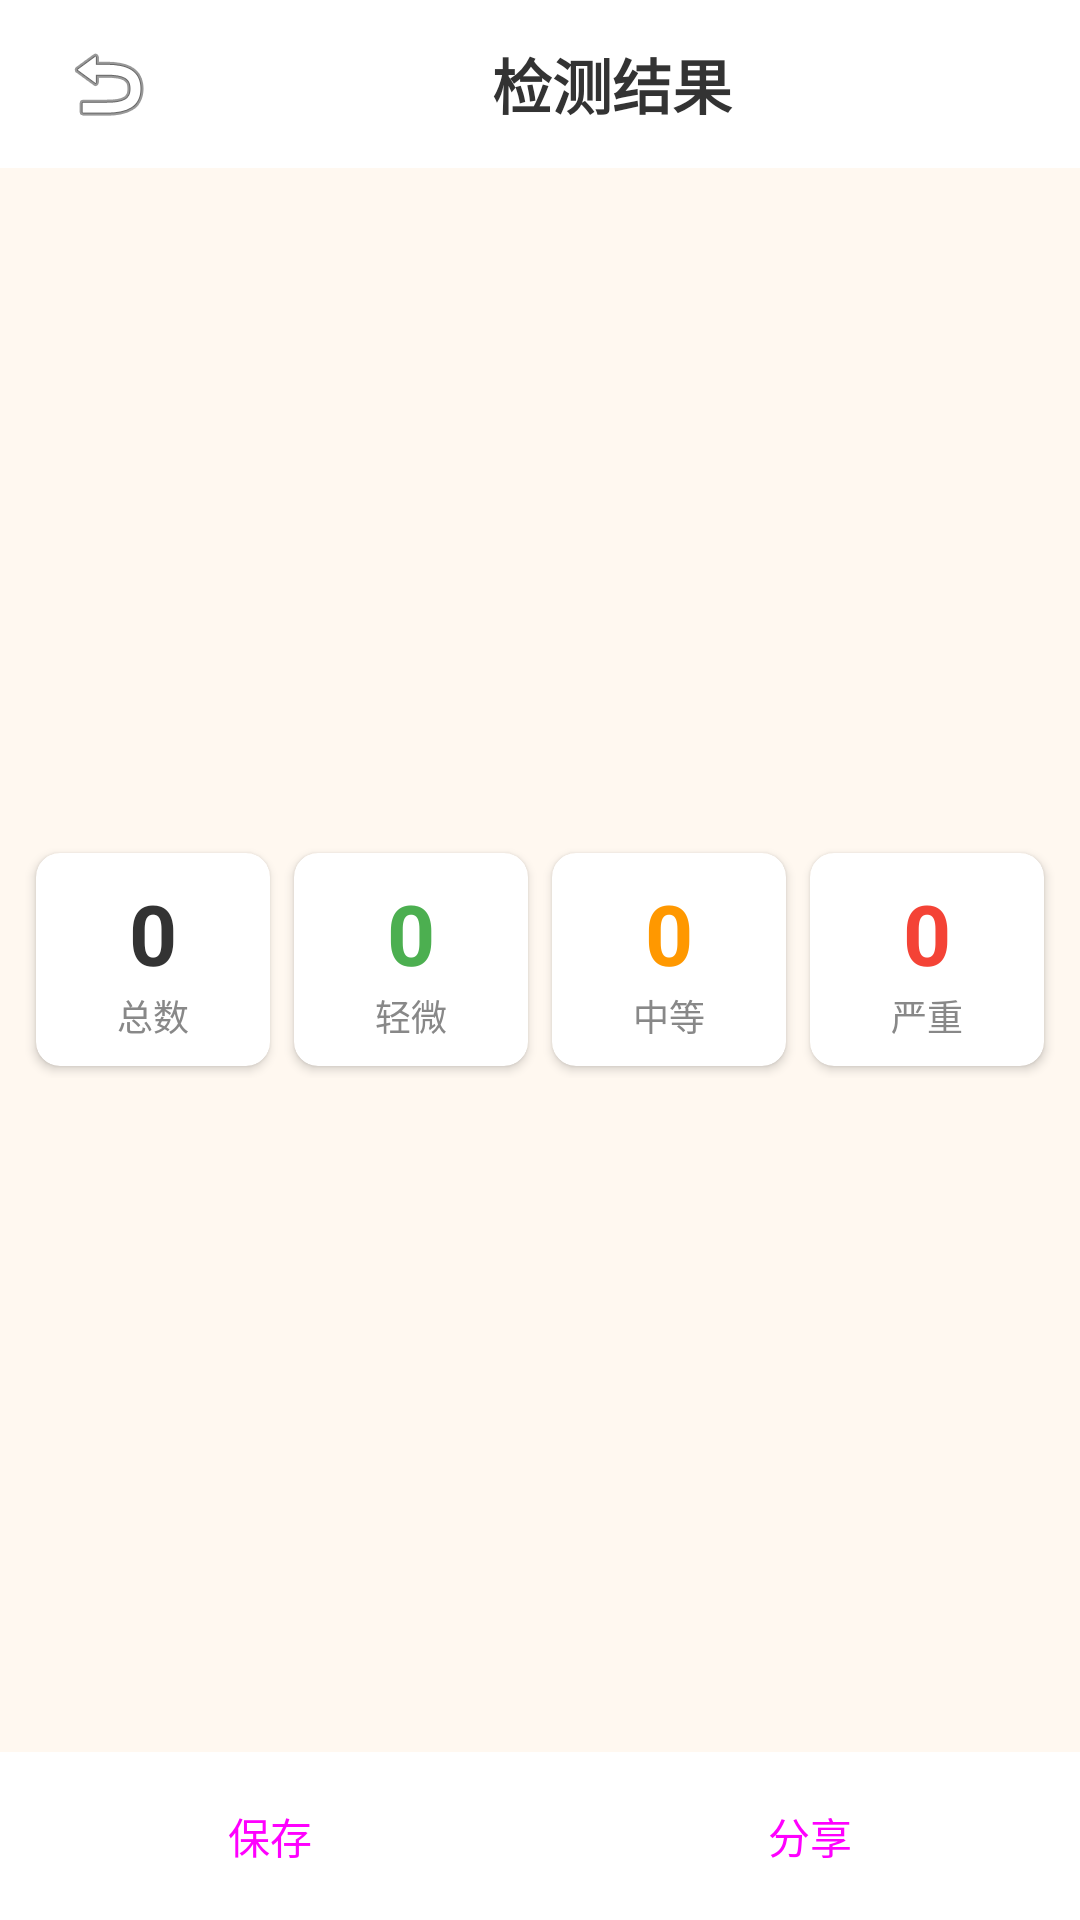

Locate icon controls on the screen. Image size 1080×1920, boxes as bbox=(x1, y1, x2, y2).
返回: bbox=(75, 53, 144, 116)
